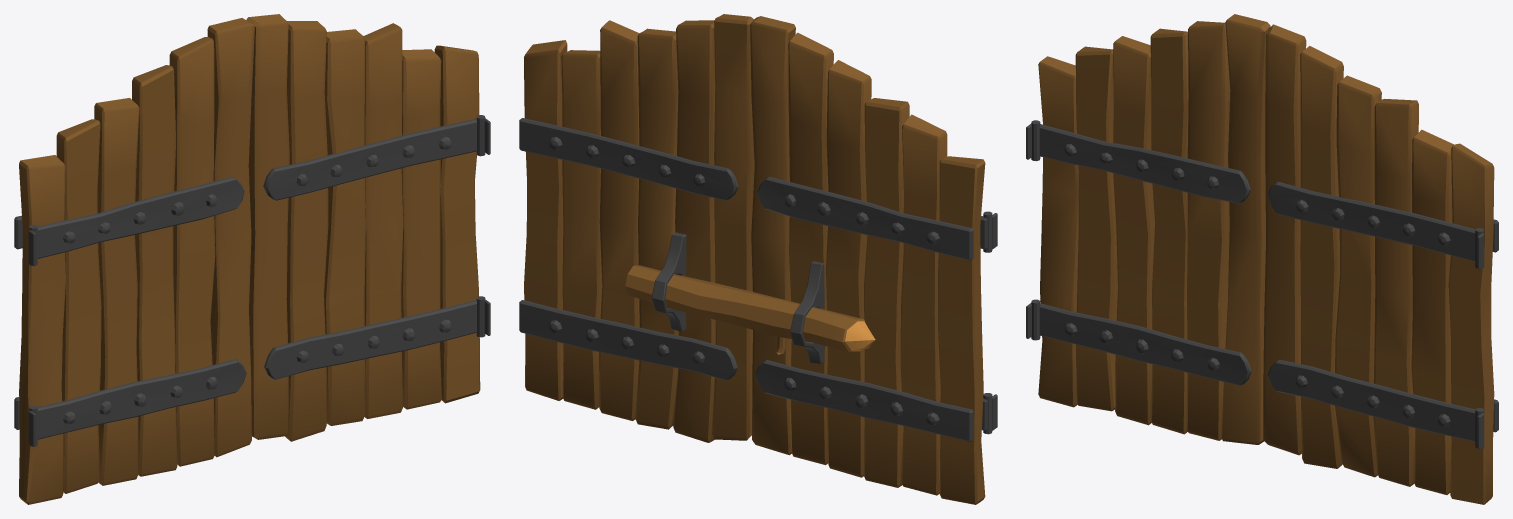
Rendered from gate1.fbx.
3 renders of one model, left to right at view 1: azimuth 30°, elevation 25°; view 2: azimuth 150°, elevation 25°; view 3: azimuth 330°, elevation 25°, orthographic.
Visible parts, largest first — view 1: Cylinder.014, Cube.001; view 2: Cylinder.014, Cube.001, Cylinder.013; view 3: Cube.001, Cylinder.014.
Boxes of the visible parts, x1,y1,x2,y2 form: Cylinder.014: (14, 18, 254, 504); Cube.001: (246, 14, 490, 441); Cylinder.014: (750, 16, 997, 504); Cube.001: (519, 14, 754, 442); Cylinder.013: (625, 265, 875, 354); Cube.001: (1263, 24, 1498, 504); Cylinder.014: (1026, 14, 1270, 444).
Bounding box in the file's own units: 210 × 189 × 33.62.
